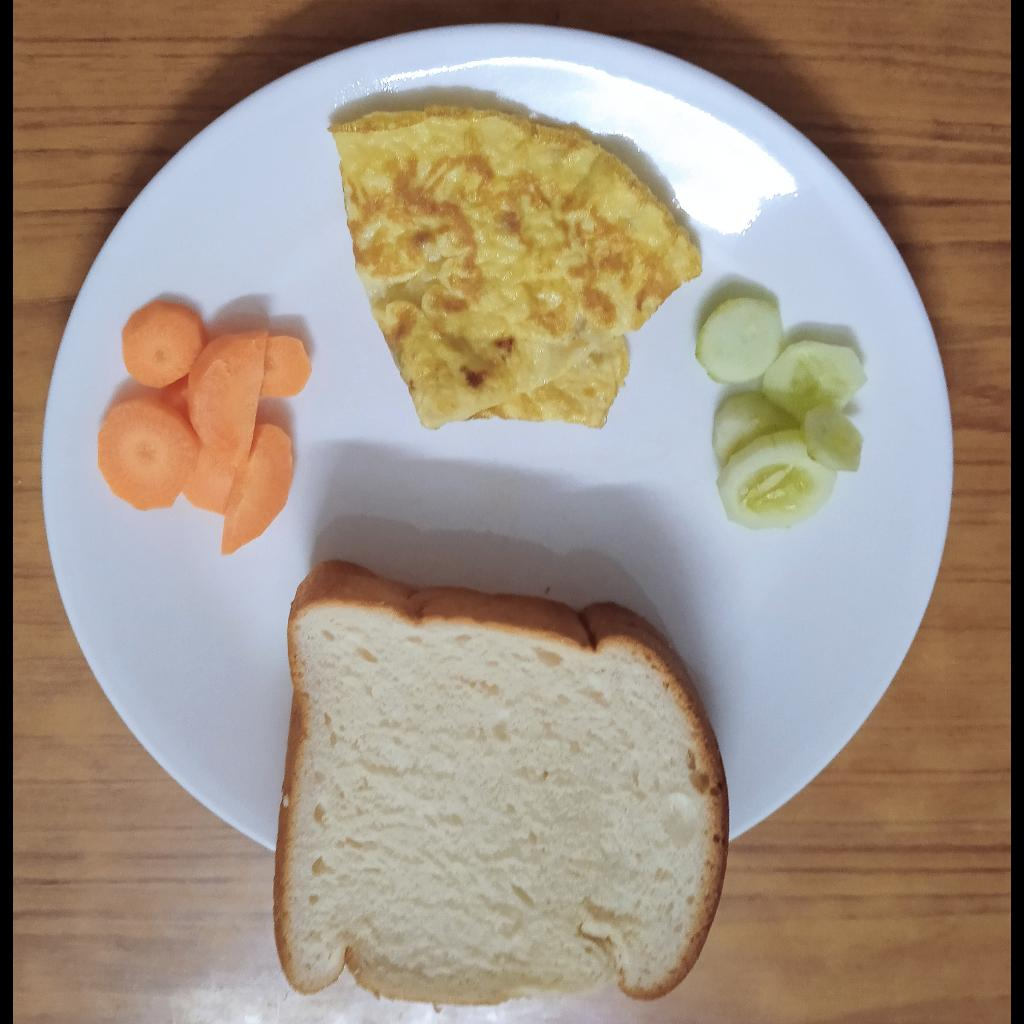bread: (271, 560, 731, 1008)
carrot: (97, 303, 312, 556)
cucumber: (696, 298, 870, 530)
egg-poached: (331, 107, 703, 434)
